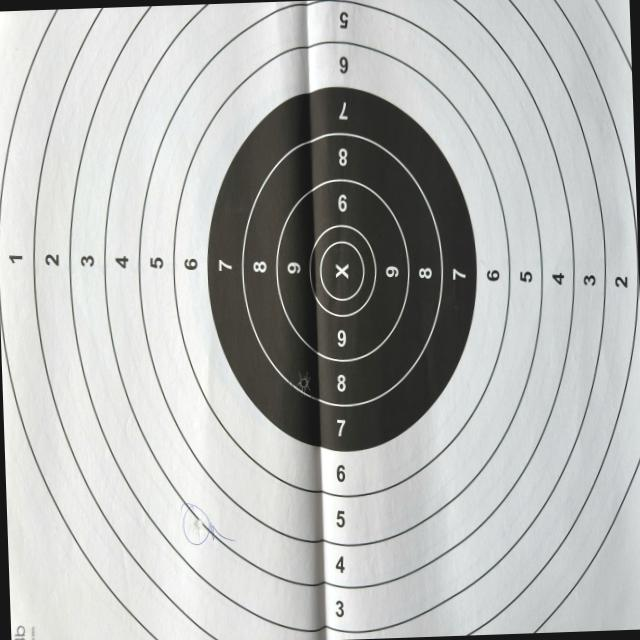bullet: (298, 376, 310, 388), (195, 517, 202, 534)
target: (0, 0, 640, 640)
